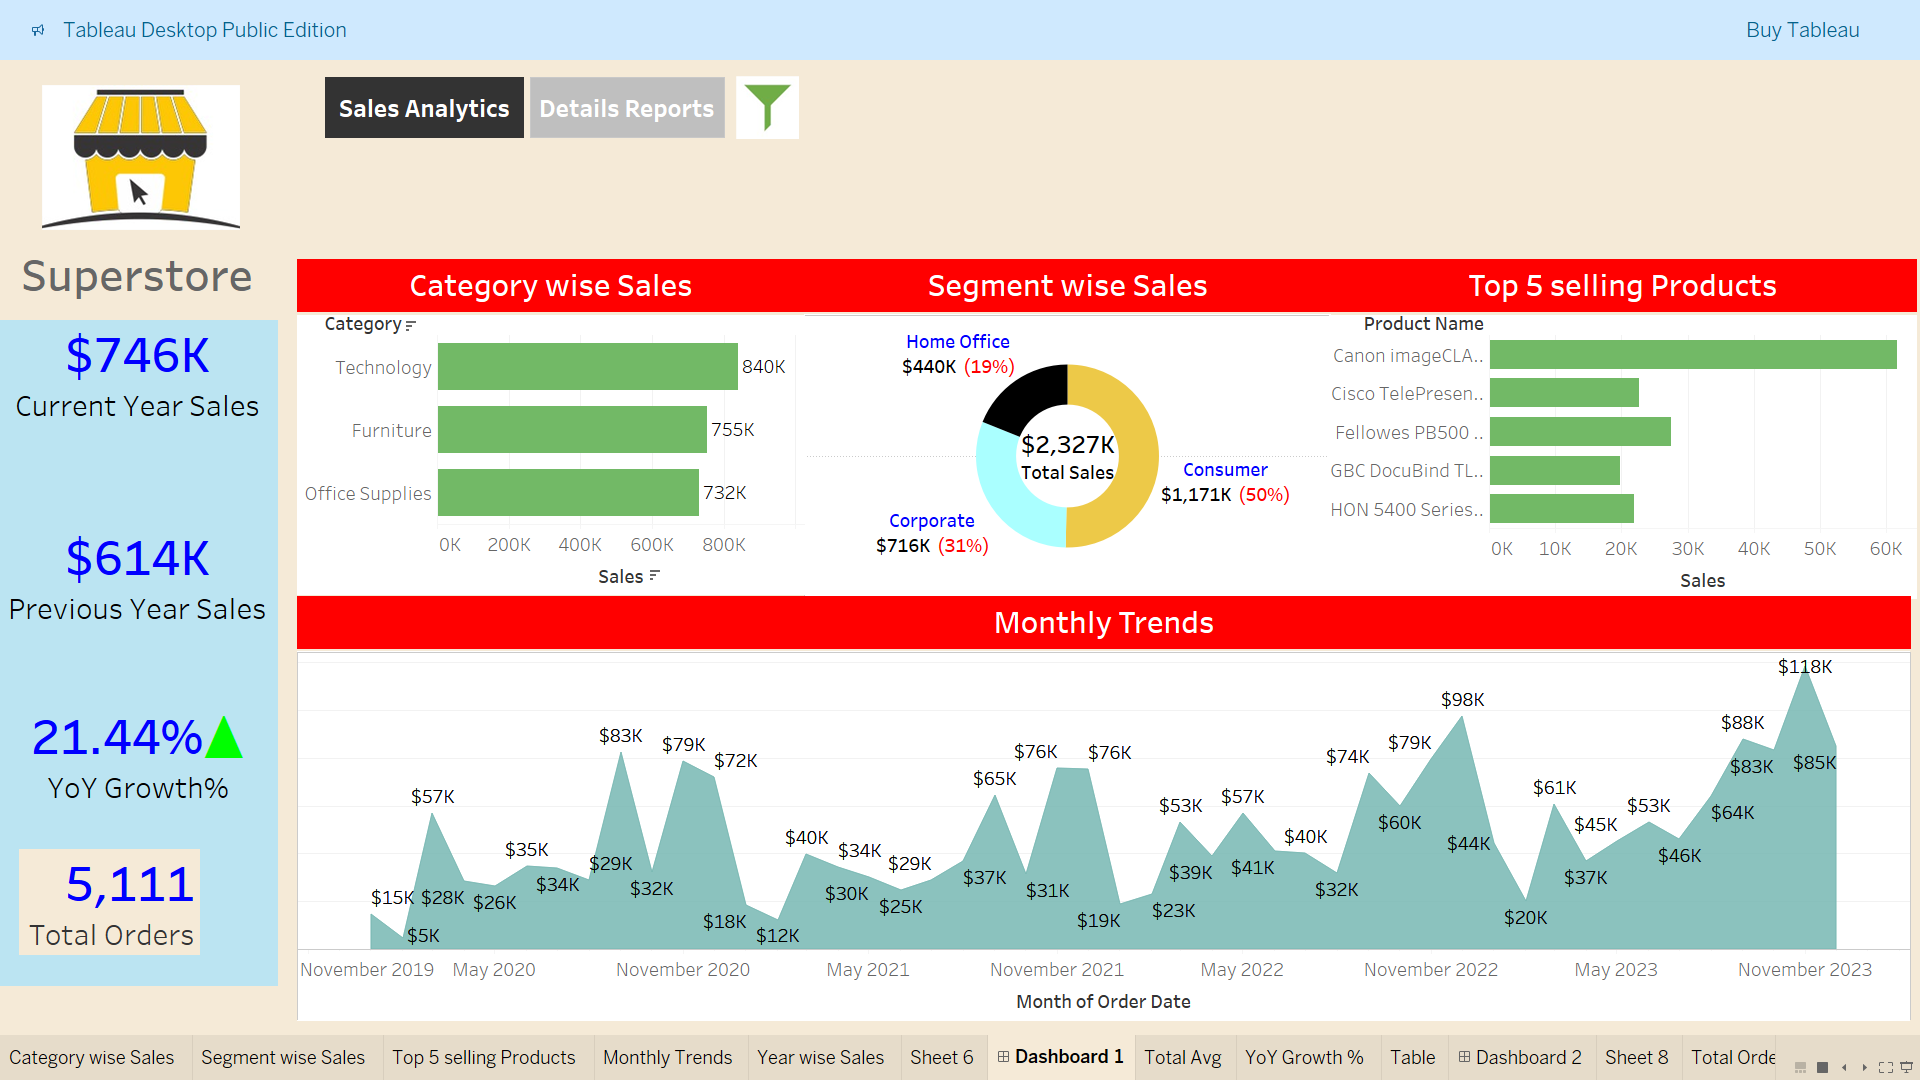

The page's visual inventory and layout, read from the dashboard file:
{"tool":"tableau","page":{"name":"Dashboard 1","canvas":[1000,1000],"units":"permille","ordinal":0},"visuals":[{"type":"filter","title":"Monthly Trends","param":"[federated.0ugkgxm1pjziga13tu5wb08p3nyk].[none:Region:nk]","box":[4.8,9.4,990.3,22]},{"type":"dashboard-object","box":[379,16.4,41,64.6]},{"type":"dashboard-object","box":[169.3,17.6,103.8,62.3]},{"type":"dashboard-object","box":[276.1,17.6,101.3,62.3]},{"type":"image","param":"Image/Samplesuperstore.jpg","box":[21.8,25.9,103.2,163.3]},{"type":"filter","title":"Monthly Trends","param":"[federated.0ugkgxm1pjziga13tu5wb08p3nyk].[yr:Calculation_809803565705150470:ok]","box":[4.8,31.4,990.3,22]},{"type":"filter","title":"Monthly Trends","param":"[federated.0ugkgxm1pjziga13tu5wb08p3nyk].[none:Category:nk]","box":[4.8,53.5,990.3,44.1]},{"type":"text","box":[3,190.4,136.5,55.2]},{"type":"worksheet","title":"Category wise Sales","mark":"Automatic","rows":["Category"],"cols":["Sales"],"box":[154.7,204.5,264.6,344.3]},{"type":"worksheet","title":"Segment wise Sales","mark":"Pie","rows":["Calculation_809803565665656832","Calculation_809803565665656832"],"box":[418.7,204.5,274.9,347.8]},{"type":"worksheet","title":"Top 5 selling Products","mark":"Automatic","rows":["Product Name"],"cols":["Sales"],"box":[692.4,204.5,306.4,349]},{"type":"worksheet","title":"Monthly Trends","mark":"Area","rows":["Sales","Sales"],"cols":["Order Date"],"box":[154.7,549.9,840.4,450.1]},{"type":"worksheet","title":"Total Orders","mark":"Automatic","box":[9.7,809.6,134.1,170.4]}]}

Visuals, with their boxes on the dashboard's canvas, which has no fixed pixel size, in thousandths of its width and height (x1, y1, x2, y2). These are canvas units, not pixel positions in the 1920x1080 screenshot, which may show the page scaled, cropped or inside an application window:
"Monthly Trends" filter: BBox(5, 9, 995, 31)
dashboard-object: BBox(379, 16, 420, 81)
dashboard-object: BBox(169, 18, 273, 80)
dashboard-object: BBox(276, 18, 377, 80)
image: BBox(22, 26, 125, 189)
"Monthly Trends" filter: BBox(5, 31, 995, 53)
"Monthly Trends" filter: BBox(5, 54, 995, 98)
text: BBox(3, 190, 140, 246)
"Category wise Sales" worksheet: BBox(155, 204, 419, 549)
"Segment wise Sales" worksheet (Pie marks): BBox(419, 204, 694, 552)
"Top 5 selling Products" worksheet: BBox(692, 204, 999, 554)
"Monthly Trends" worksheet (Area marks): BBox(155, 550, 995, 1000)
"Total Orders" worksheet: BBox(10, 810, 144, 980)
